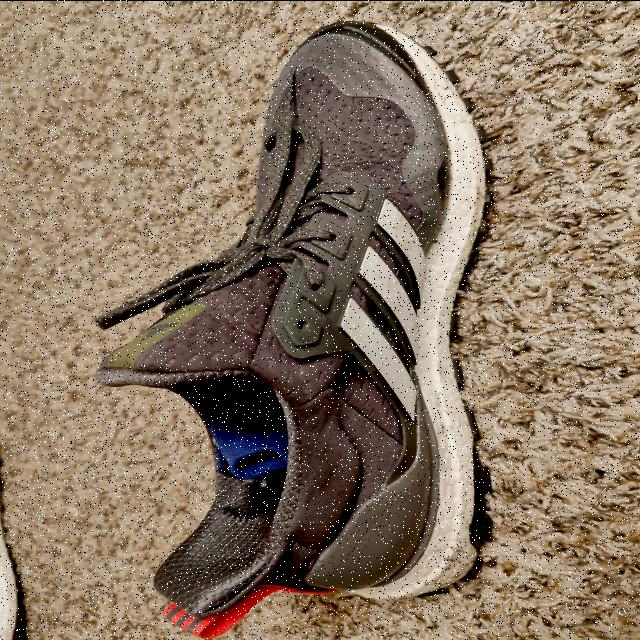black shoes: (91, 98, 485, 604)
